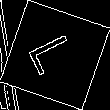L_NE: (26, 30, 84, 80)
